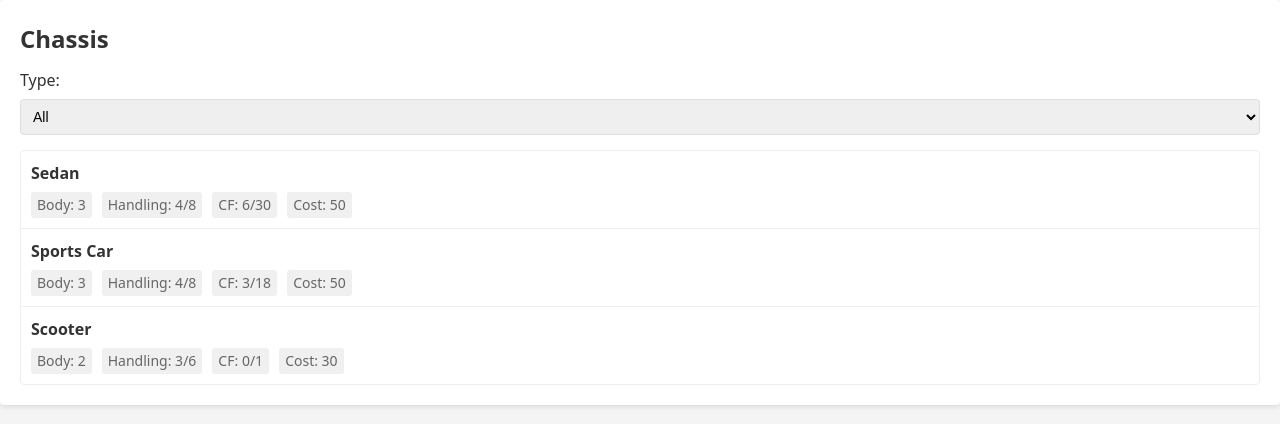
Test: ChassisSelector component › filters chassis by type
This screenshot has width=1280, height=424.
Check: the text "Sedan" is shown, box [31,162,80,184]
Check: the text "Scooter" is shown, box [31,318,92,340]
Note: Filter by type 1 (cars)
Step 1. Select "Ground vehicles" in the dropdown labelled "Type:" → (640, 117), box [20,99,1260,135]
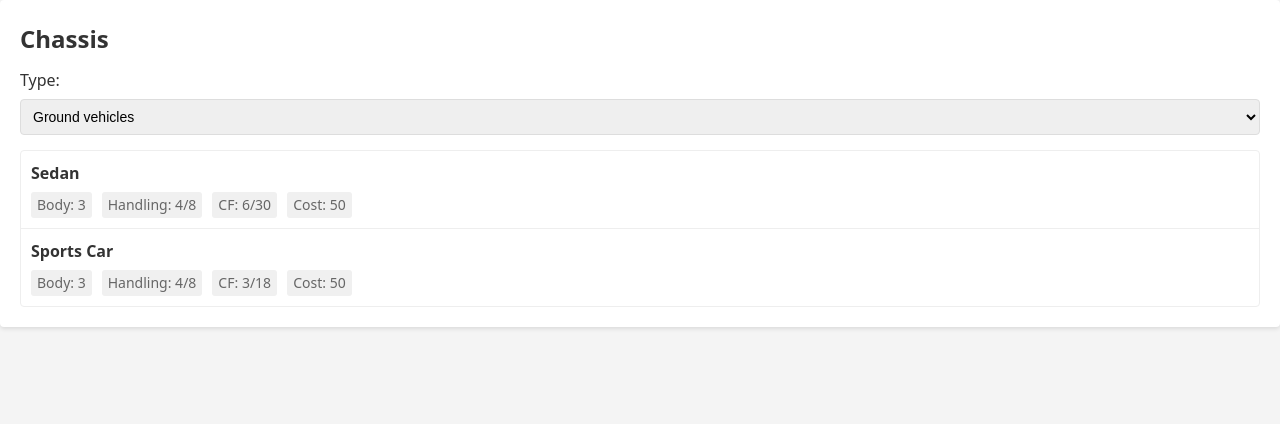
Check: the text "Sedan" is shown, box [31,162,80,184]
Check: the text "Scooter" is gone
